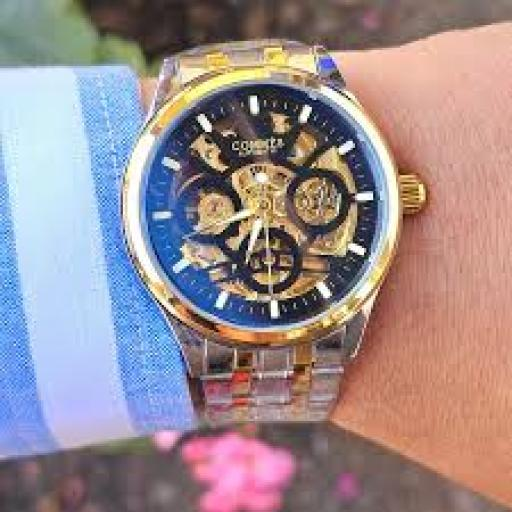KolSaati: (119, 18, 438, 458)
